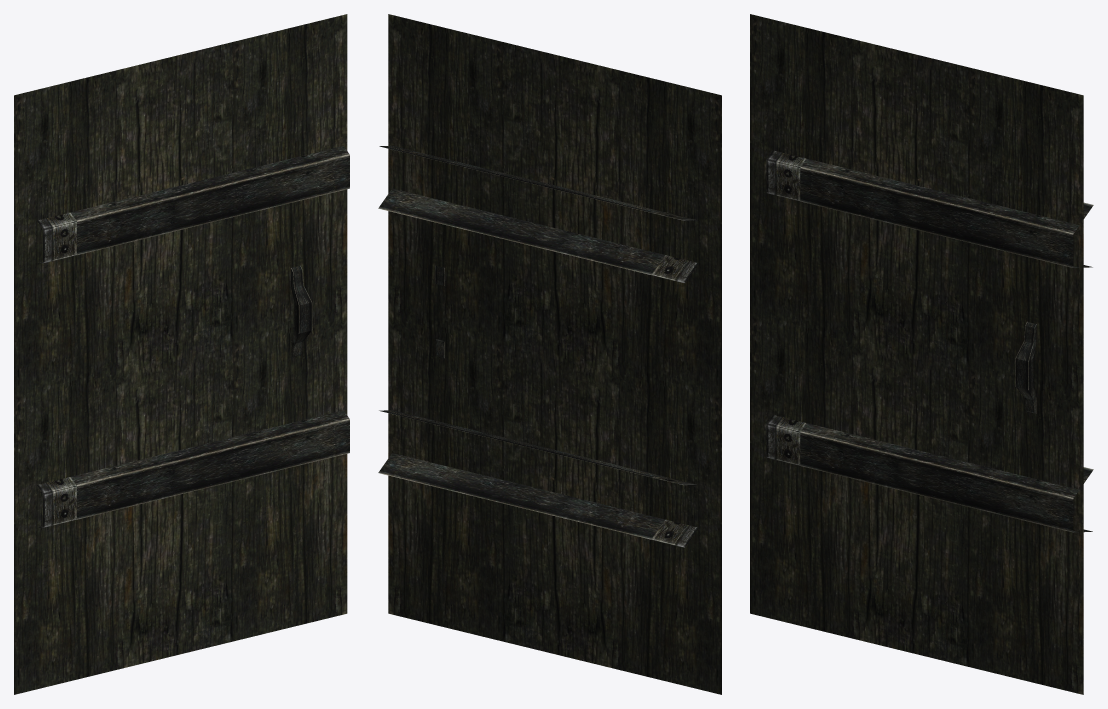
File: d_ex_nord_door_01.obj
3 views of the same model, side by side, from view 1: azimuth 30°, elevation 25°; view 2: azimuth 150°, elevation 25°; view 3: azimuth 330°, elevation 25° (orthographic).
Parts seen in each view (by area): view 1: nifid_1-matrix_Tri_Ex_nord_door_01_0-lib, nifid_6-matrix_Tri_Ex_nord_door_01_1-lib, nifid_11-matrix_Tri_Ex_nord_door_01_2-lib; view 2: nifid_1-matrix_Tri_Ex_nord_door_01_0-lib, nifid_6-matrix_Tri_Ex_nord_door_01_1-lib, nifid_11-matrix_Tri_Ex_nord_door_01_2-lib; view 3: nifid_1-matrix_Tri_Ex_nord_door_01_0-lib, nifid_6-matrix_Tri_Ex_nord_door_01_1-lib, nifid_11-matrix_Tri_Ex_nord_door_01_2-lib.
Boxes of the visible parts, bbox=[...] form: nifid_1-matrix_Tri_Ex_nord_door_01_0-lib: bbox=[14, 14, 347, 694]; nifid_6-matrix_Tri_Ex_nord_door_01_1-lib: bbox=[71, 146, 349, 519]; nifid_11-matrix_Tri_Ex_nord_door_01_2-lib: bbox=[37, 212, 76, 527]; nifid_1-matrix_Tri_Ex_nord_door_01_0-lib: bbox=[388, 14, 721, 694]; nifid_6-matrix_Tri_Ex_nord_door_01_1-lib: bbox=[378, 145, 664, 539]; nifid_11-matrix_Tri_Ex_nord_door_01_2-lib: bbox=[651, 212, 698, 547]; nifid_1-matrix_Tri_Ex_nord_door_01_0-lib: bbox=[750, 14, 1083, 694]; nifid_6-matrix_Tri_Ex_nord_door_01_1-lib: bbox=[800, 158, 1093, 532]; nifid_11-matrix_Tri_Ex_nord_door_01_2-lib: bbox=[766, 150, 806, 465].
Bounding box in the file's own units: 2.91 × 5 × 0.3617.
